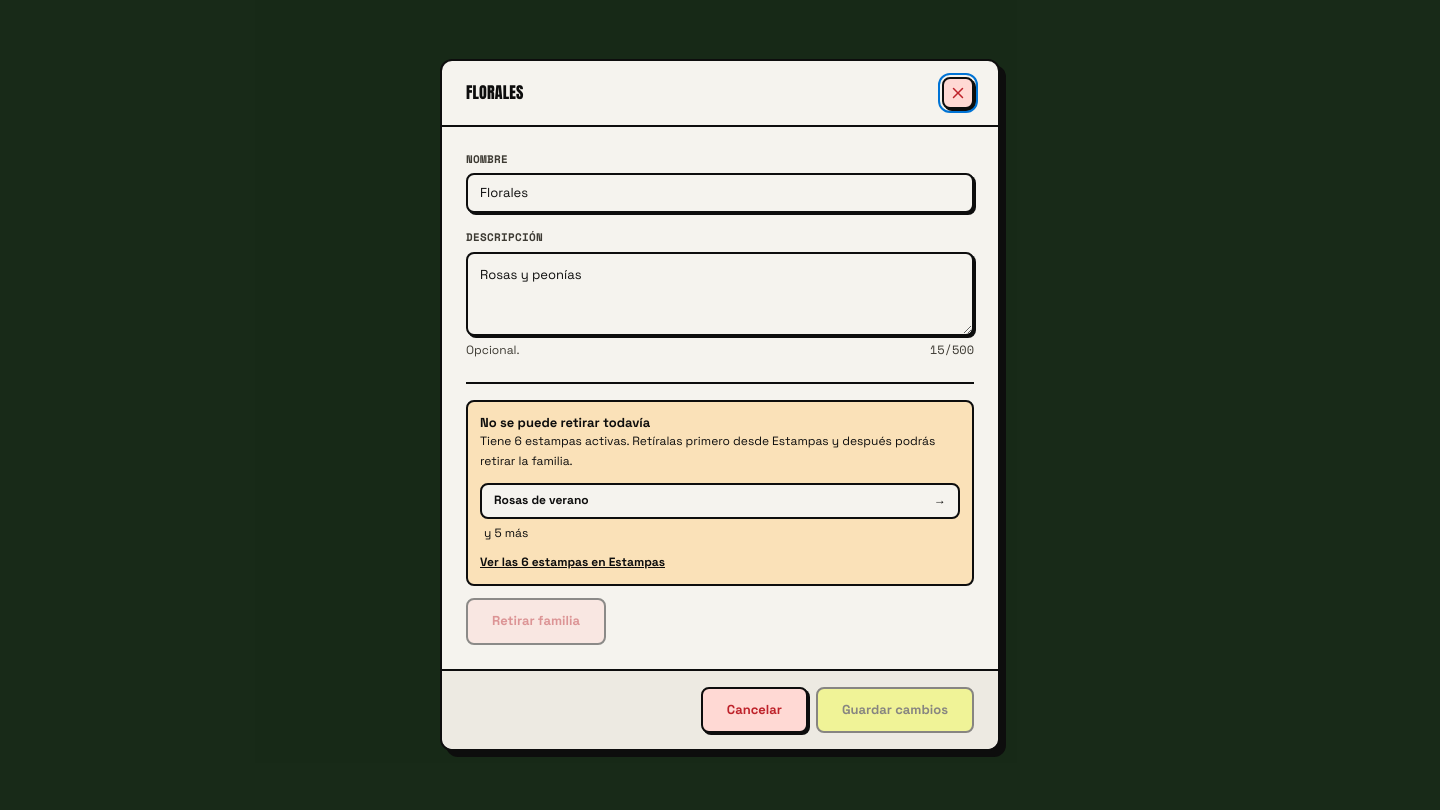
TaxonModal › un error del API se muestra en el modal y no cierra
The image size is (1440, 810).
Type "x" into the field labelled "Nombre" at (720, 193), box [480,184,960,203]
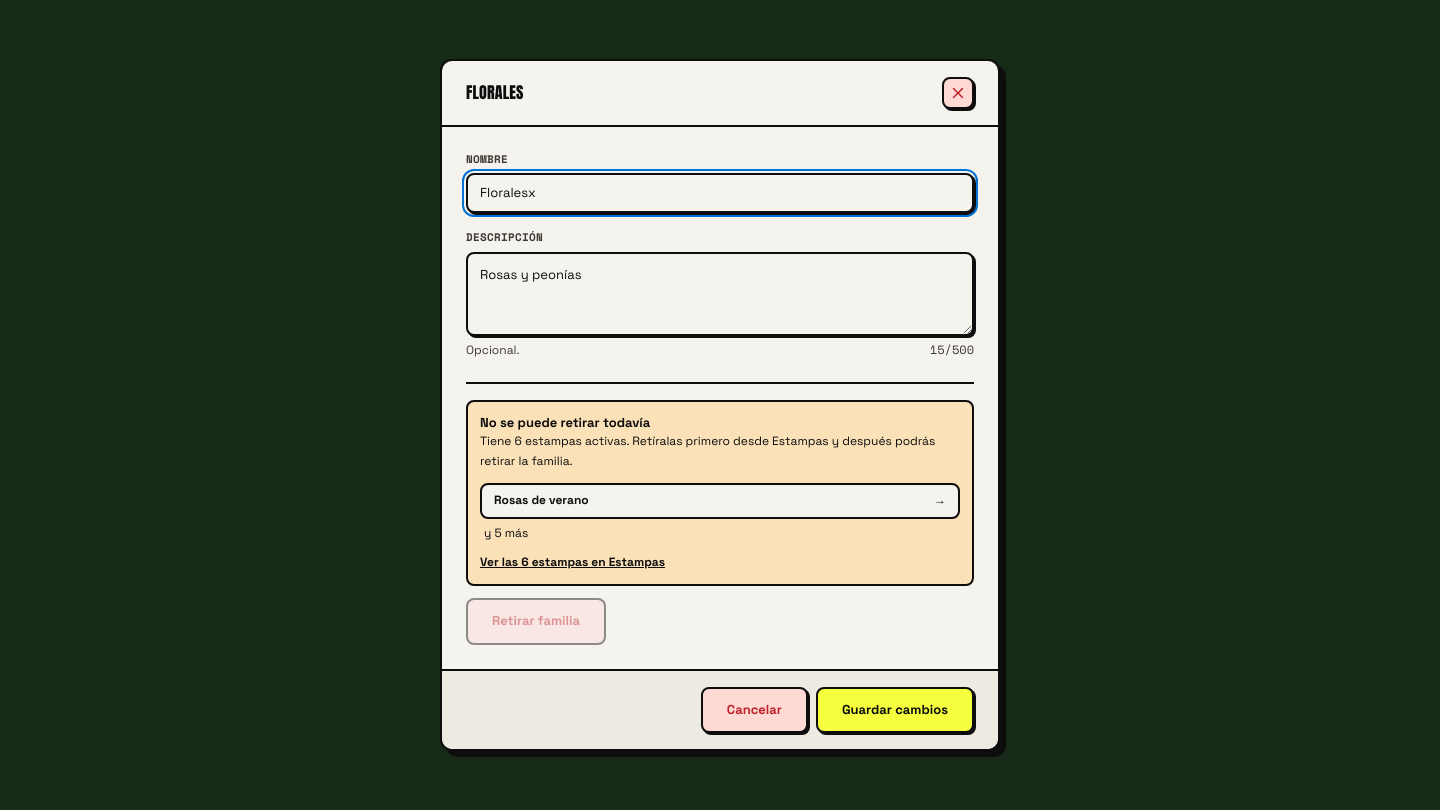
Click the button "Guardar cambios" at (895, 710), box [816,687,974,733]
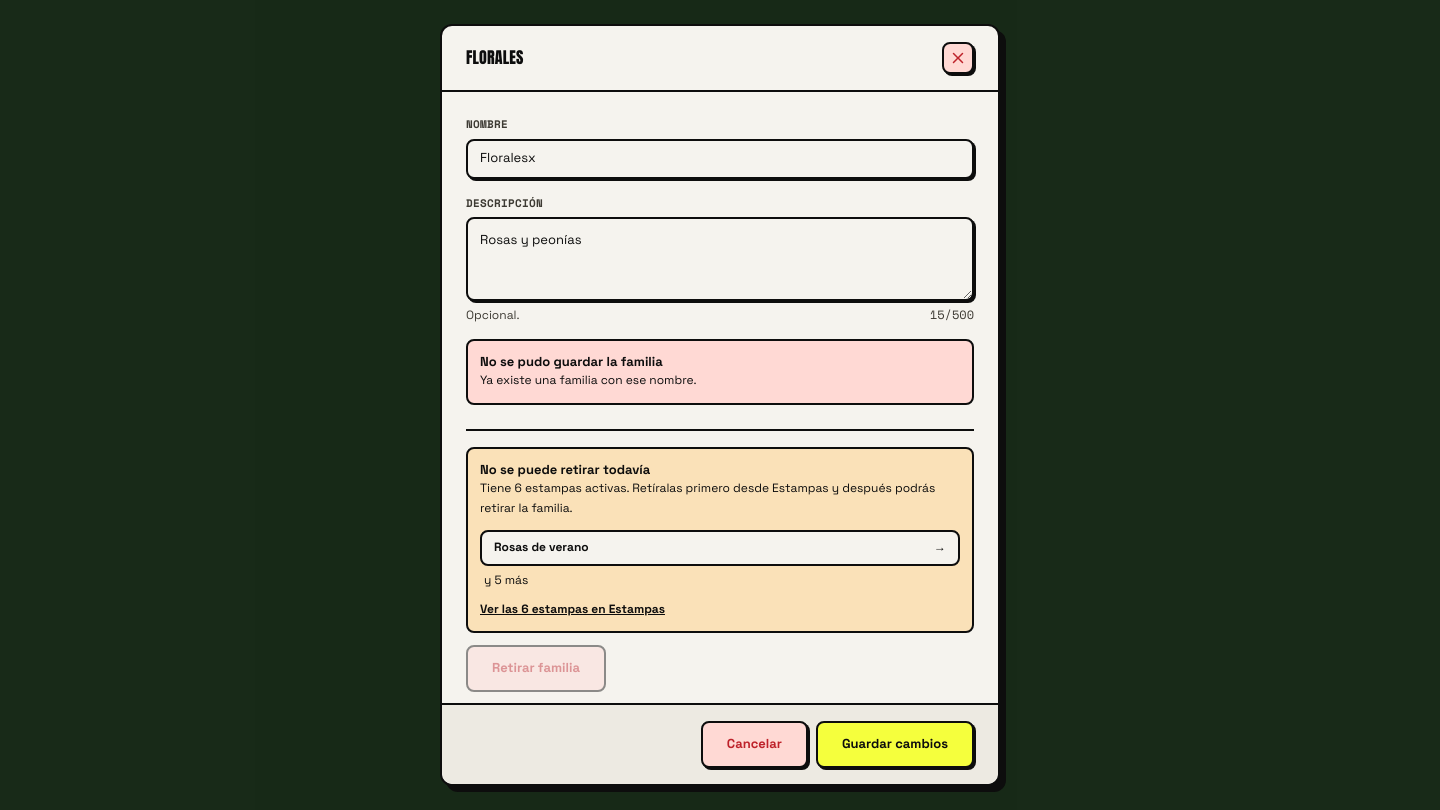
Now the text "Ya existe una familia con ese nombre." is shown, box [480,371,696,391]
